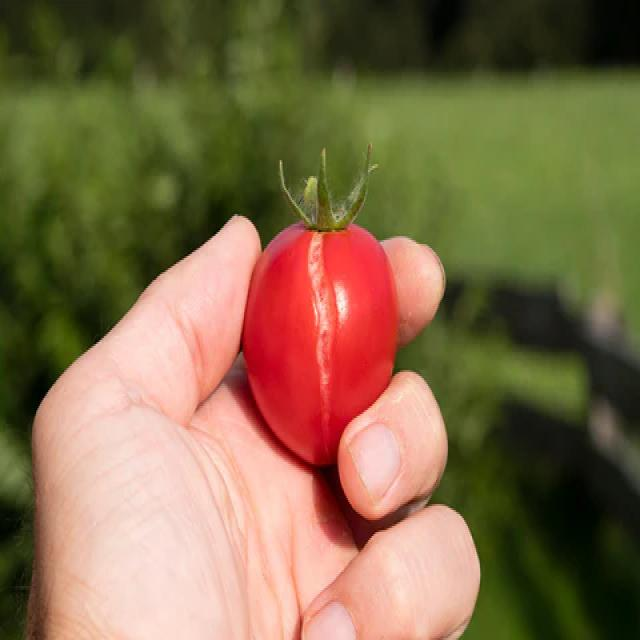damaged: (236, 186, 413, 483)
